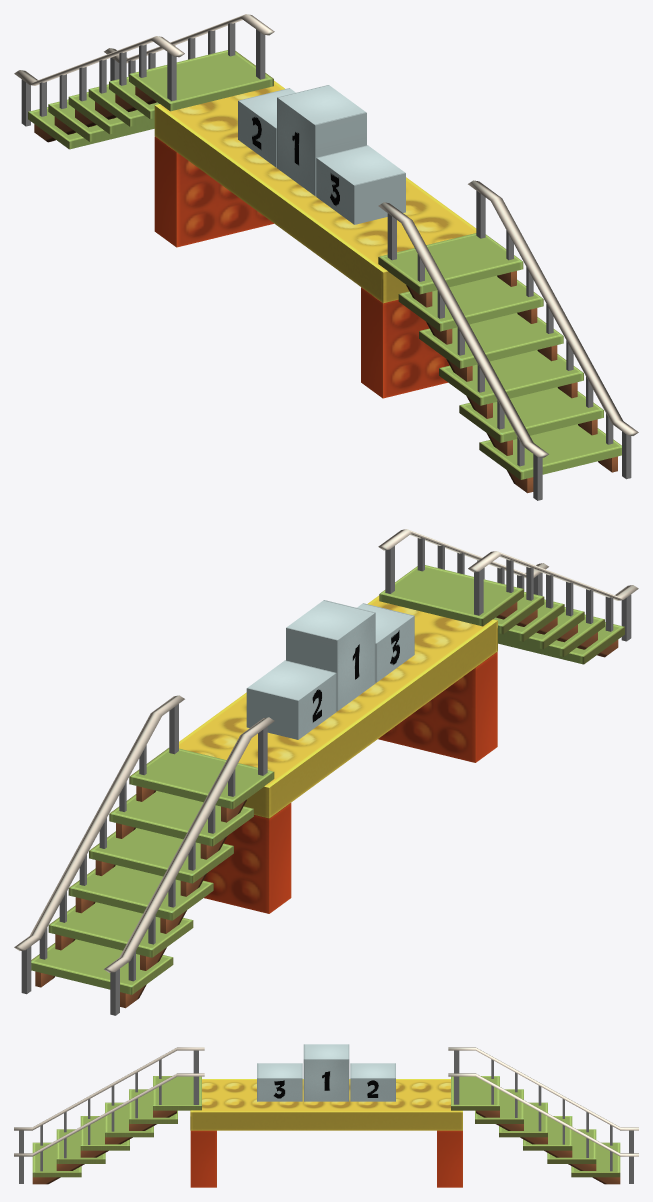
File: dias.FBX
The picture shows the model from 3 angles, top to bottom: view 1: azimuth 30°, elevation 25°; view 2: azimuth 150°, elevation 25°; view 3: azimuth 270°, elevation 25°; orthographic projection. The views are drawn at different scales.
Parts seen in each view (by area): view 1: dias; view 2: dias; view 3: dias.
Part boxes in pixels (x1,y1,x2,y2): dias: (14,14,638,500); dias: (14,529,638,1015); dias: (14,1044,638,1187).
Bounding box in the file's own units: 63.12 × 104 × 498.
